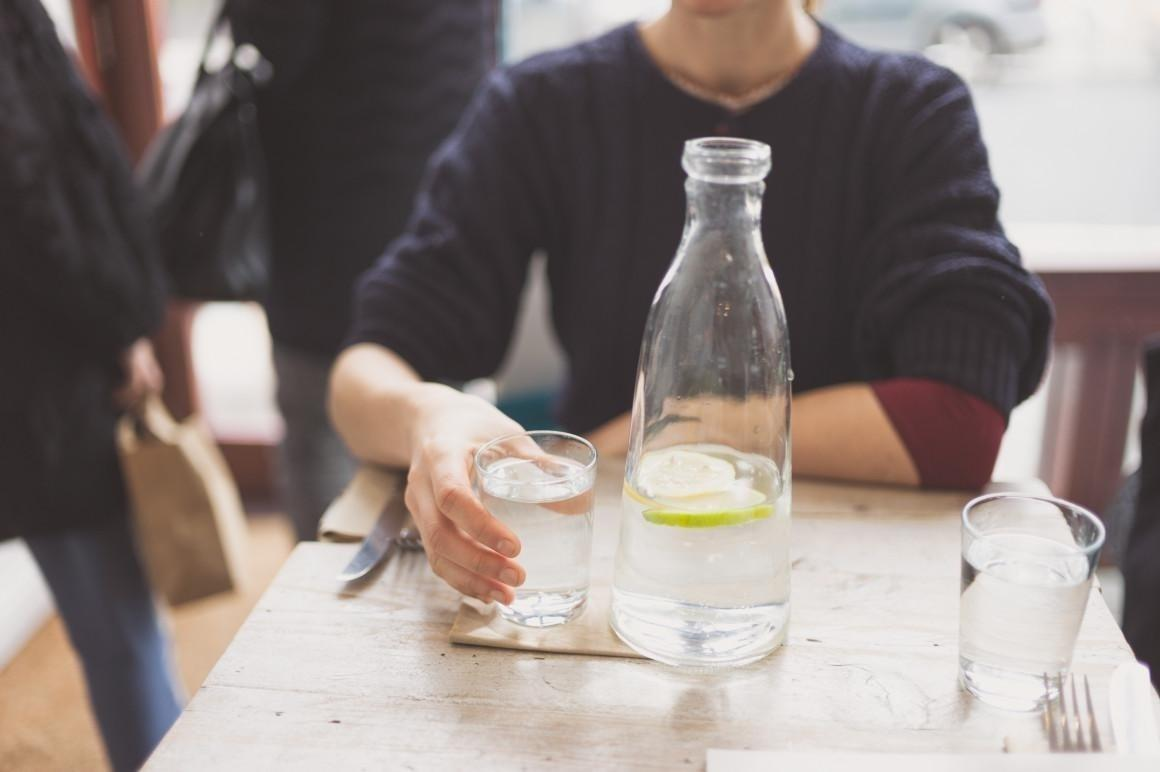bottle-glass: (608, 131, 799, 674)
glass-normal: (955, 488, 1108, 710), (470, 427, 600, 628)
